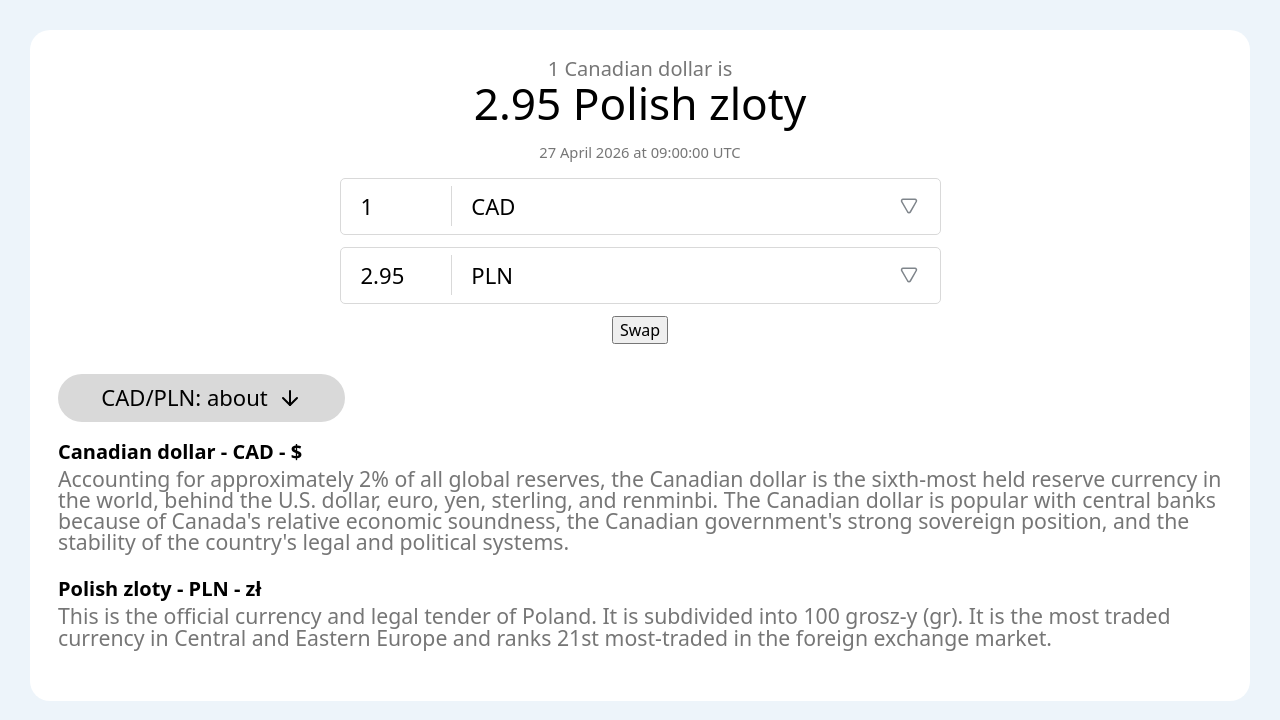
Test case: Currency converter › RecalculateConversionWhenPairChanges
The image size is (1280, 720).
Replace the text in the field with id "from-input-amount" with "2" at (396, 206), box left=340, top=178, right=450, bottom=234
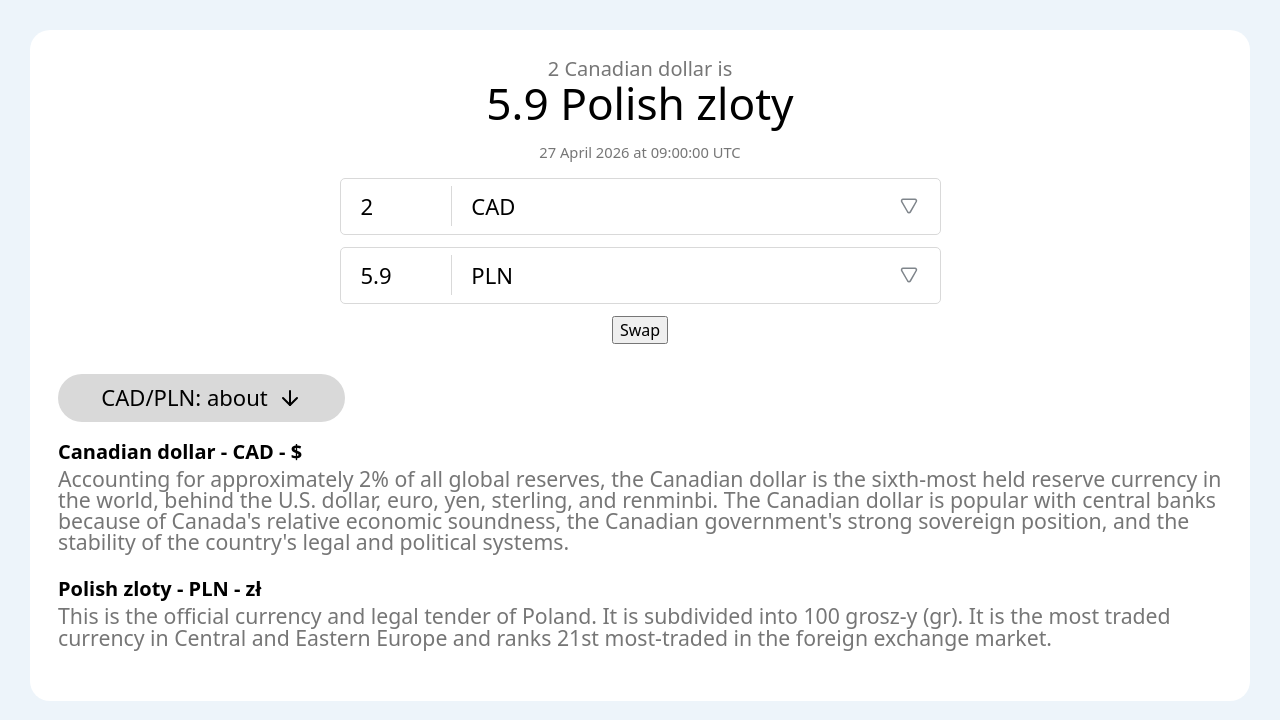
Select "JPY" in the dropdown with id "to-input-currency-select" at (695, 275), box left=451, top=248, right=940, bottom=302
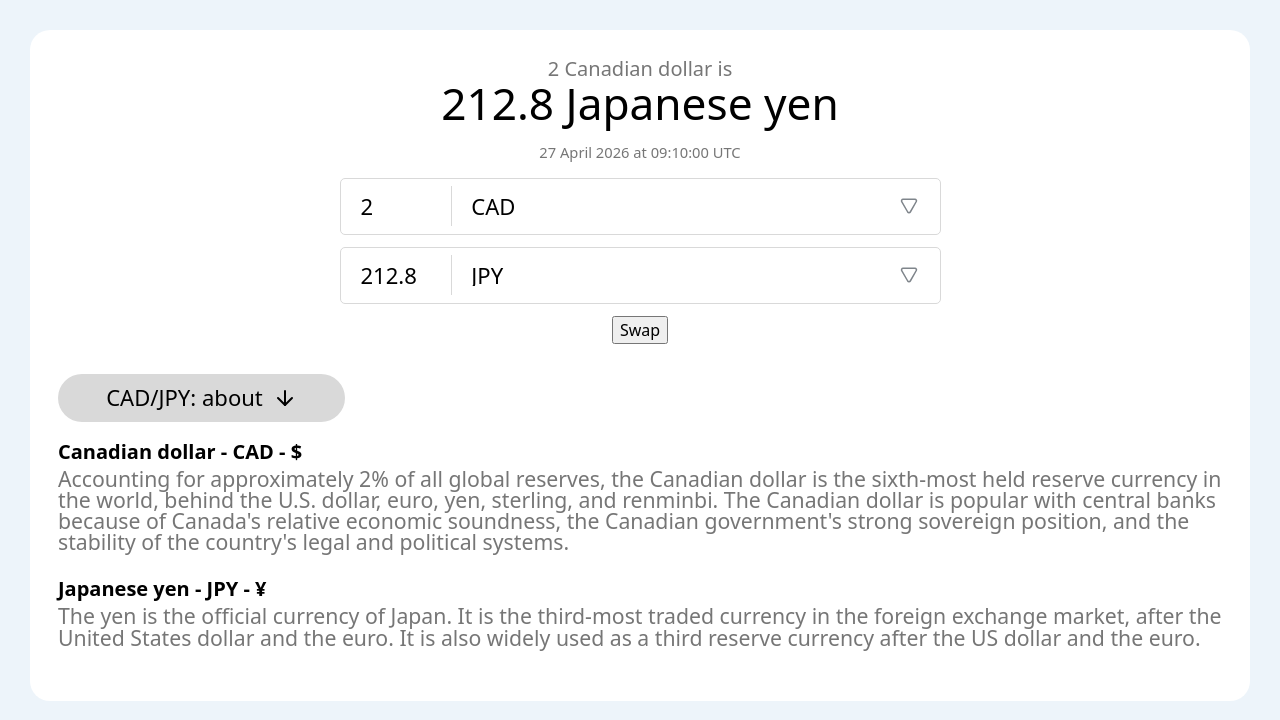
Expected: the field with id "to-input-amount" holds "212.8", left=340, top=248, right=450, bottom=302
